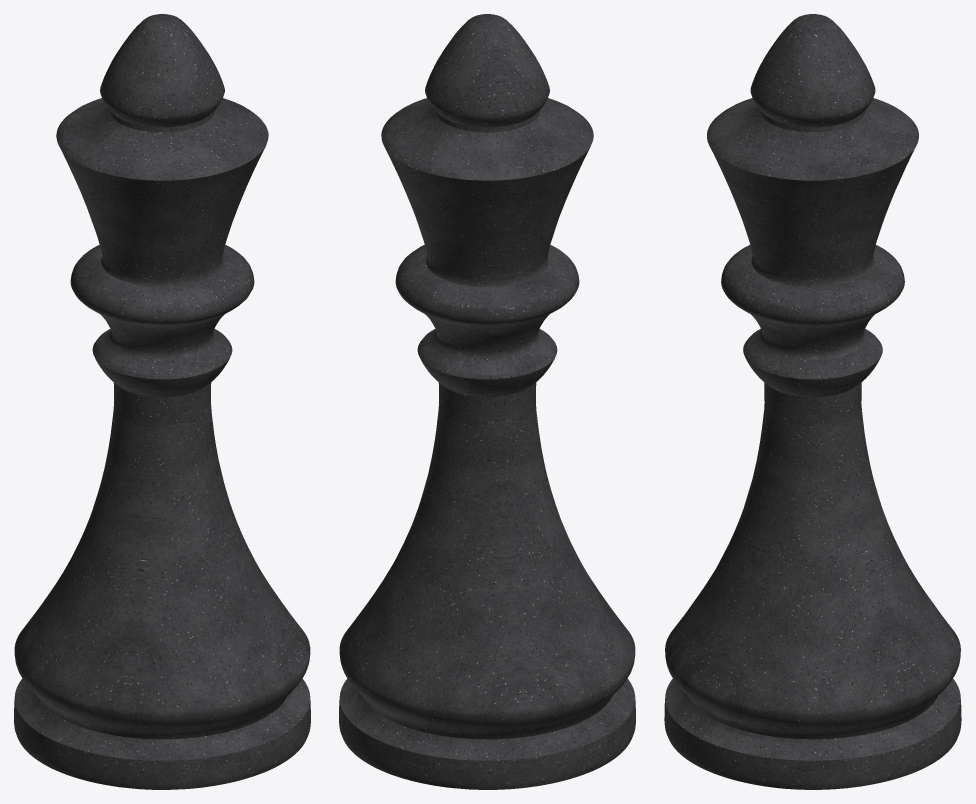
Rendered from king-black-hd.glb.
The picture shows the model from 3 angles, left to right: view 1: azimuth 30°, elevation 25°; view 2: azimuth 150°, elevation 25°; view 3: azimuth 270°, elevation 25°; orthographic projection.
Visible parts, largest first — view 1: kral_cerna; view 2: kral_cerna; view 3: kral_cerna.
Boxes of the visible parts, left/top/right/bottom form: kral_cerna: left=14, top=14, right=310, bottom=789; kral_cerna: left=339, top=14, right=635, bottom=789; kral_cerna: left=664, top=14, right=961, bottom=789.
Bounding box in the file's own units: 0.6172 × 1.65 × 0.6172.
1 material, 1 textured.
